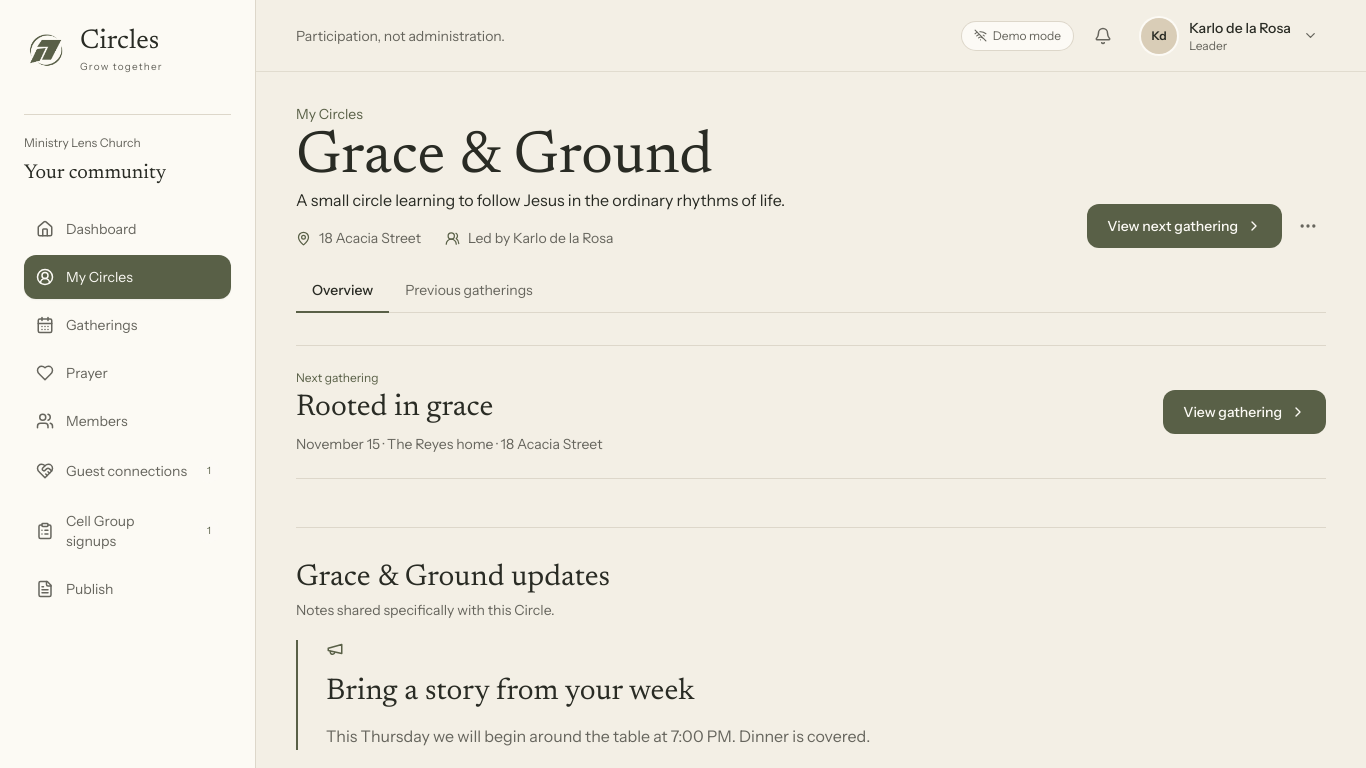
it: Circles MVP › lets the current leader edit Circle details
Step 1. Click the button named "Circle actions" → (1308, 226), box [1290,208,1326,244]
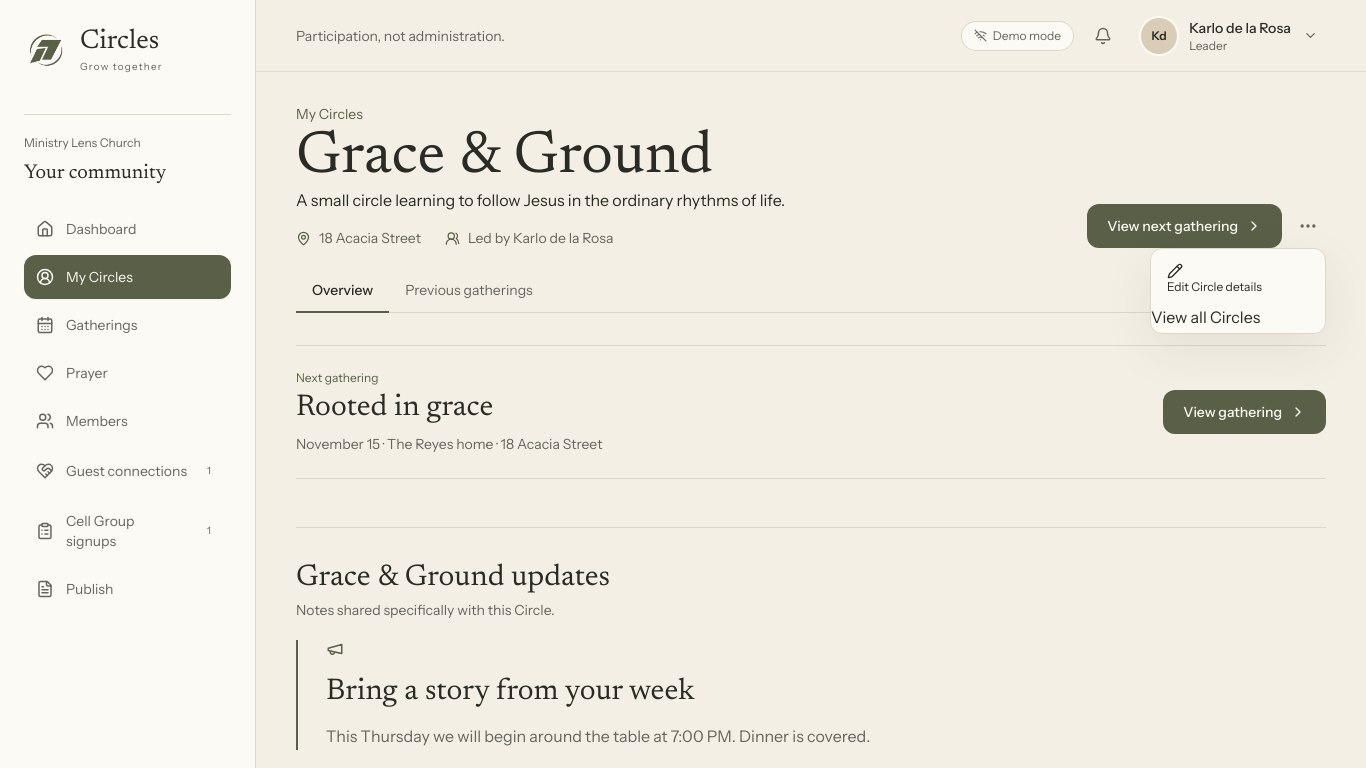
Step 2. Click the menu item "Edit Circle details" → (1238, 279), box [1151,253,1325,305]
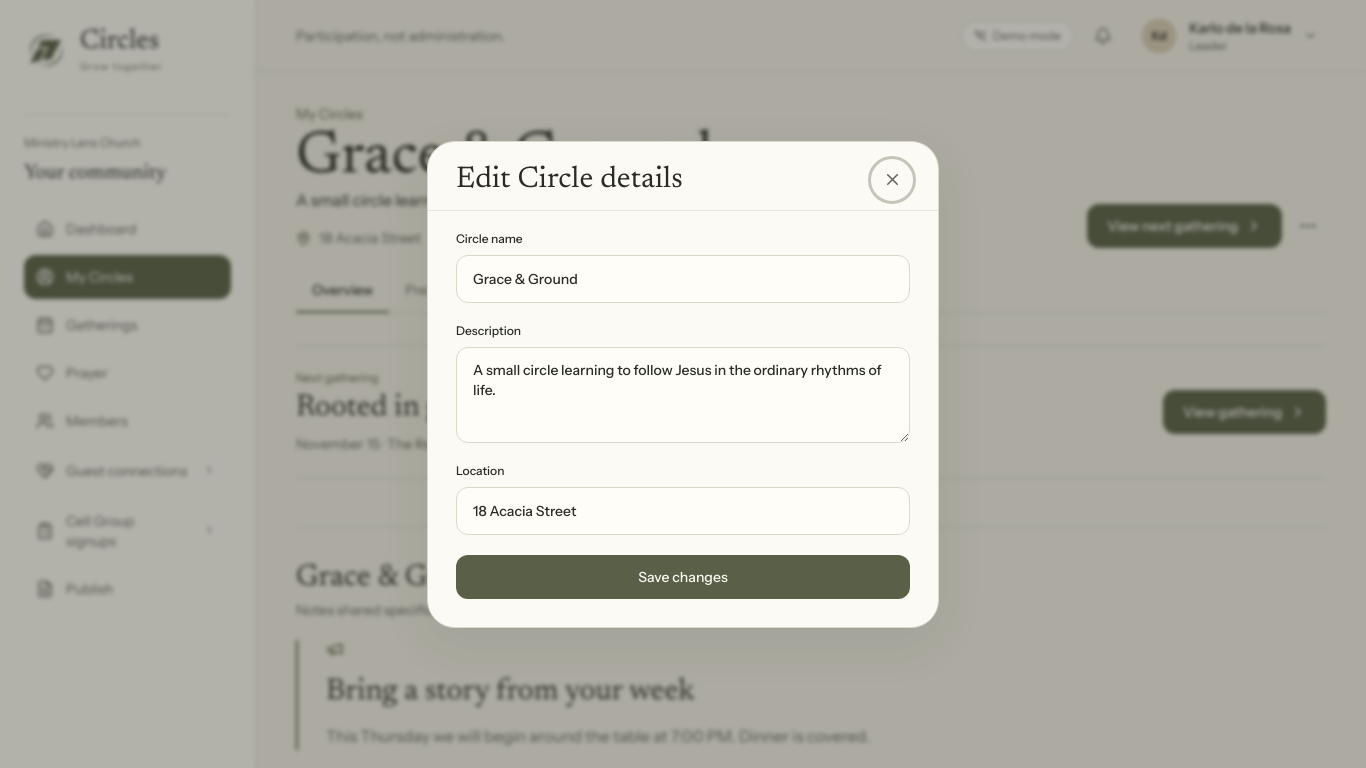
Expected: the field labelled "Circle name" holds "Grace & Ground"
Expected: the text box labelled "Description" holds "A small circle learning to follow Jesus in the ordinary rhythms of life.", [456,346,910,442]
Expected: the field labelled "Location" holds "18 Acacia Street", [456,486,910,534]
Step 3. Replace the text in the field labelled "Circle name" with "Grace at Home" → (683, 278), box [456,254,910,302]
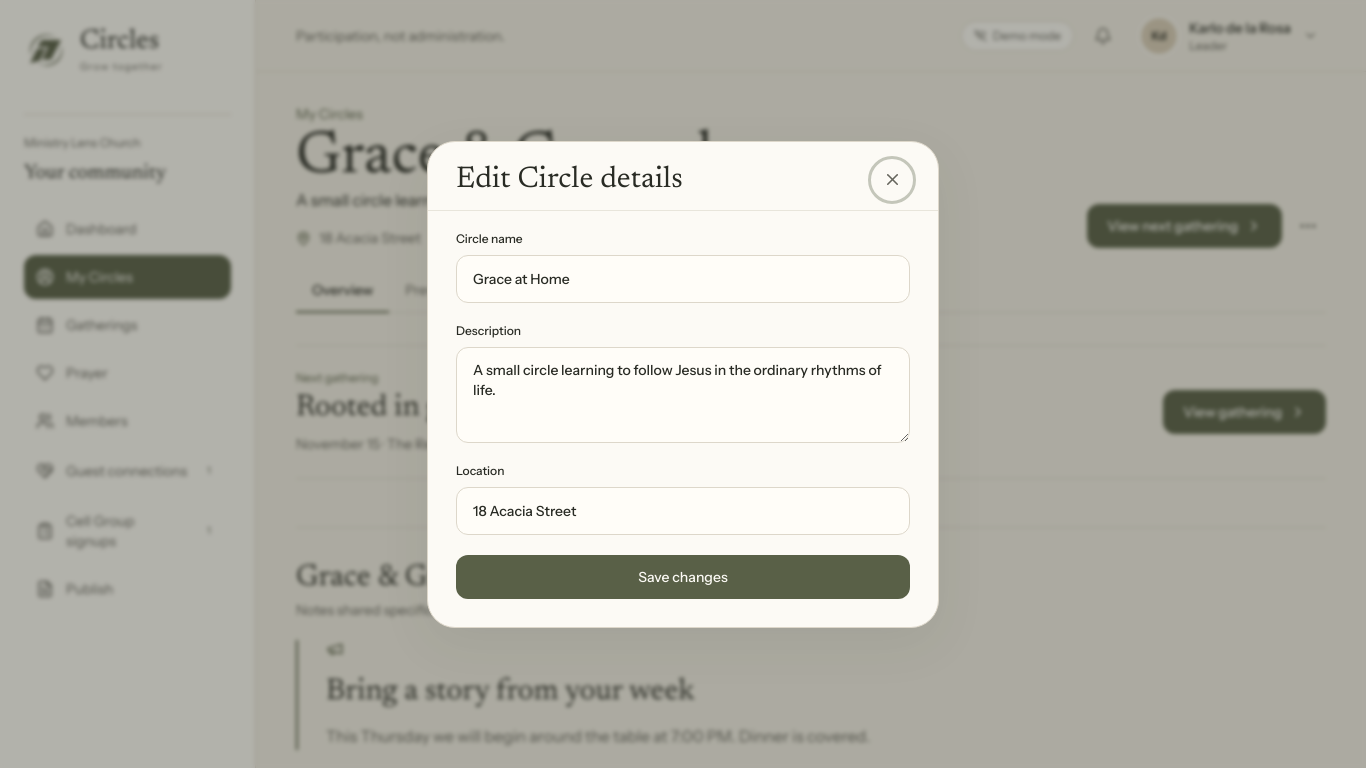
Step 4. Replace the text in the field labelled "Location" with "Santos home" → (683, 510), box [456,486,910,534]
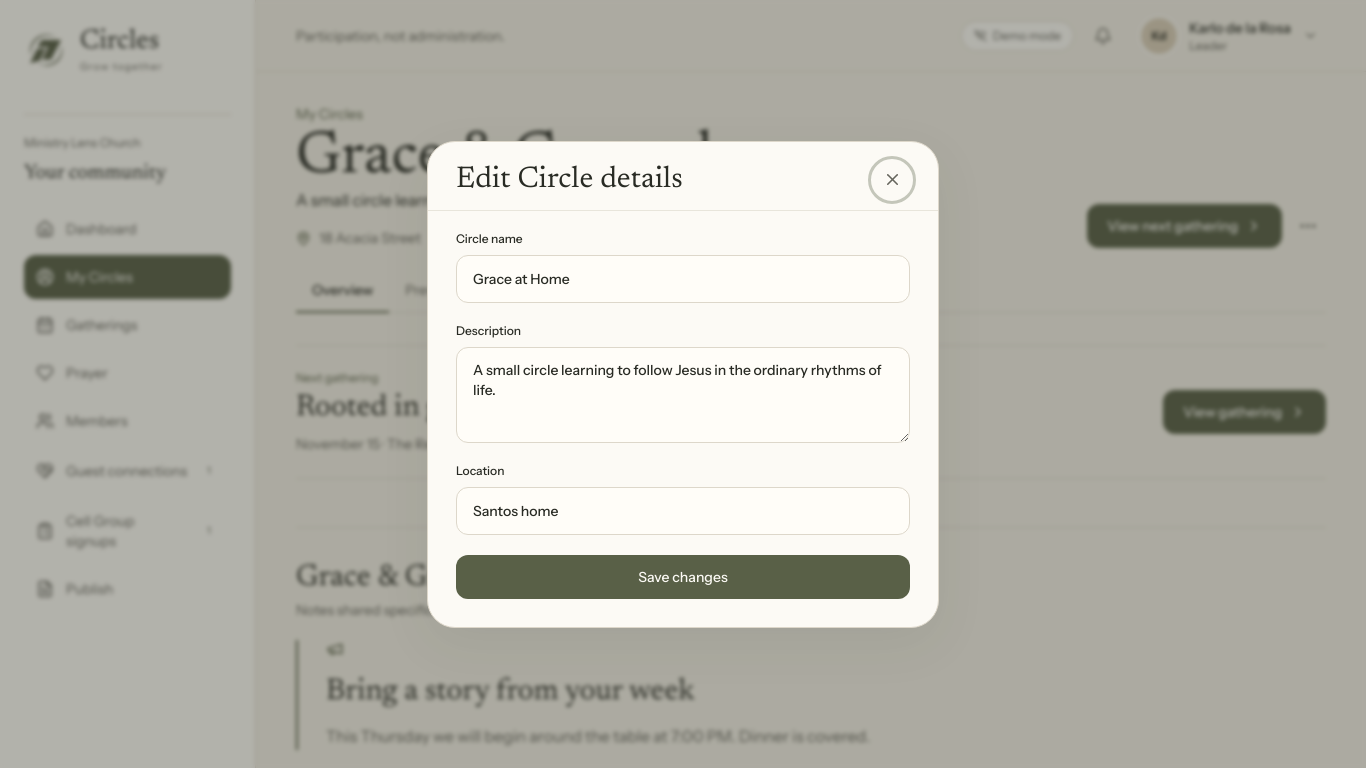
Step 5. Click the button "Save changes" → (683, 576), box [456,554,910,598]
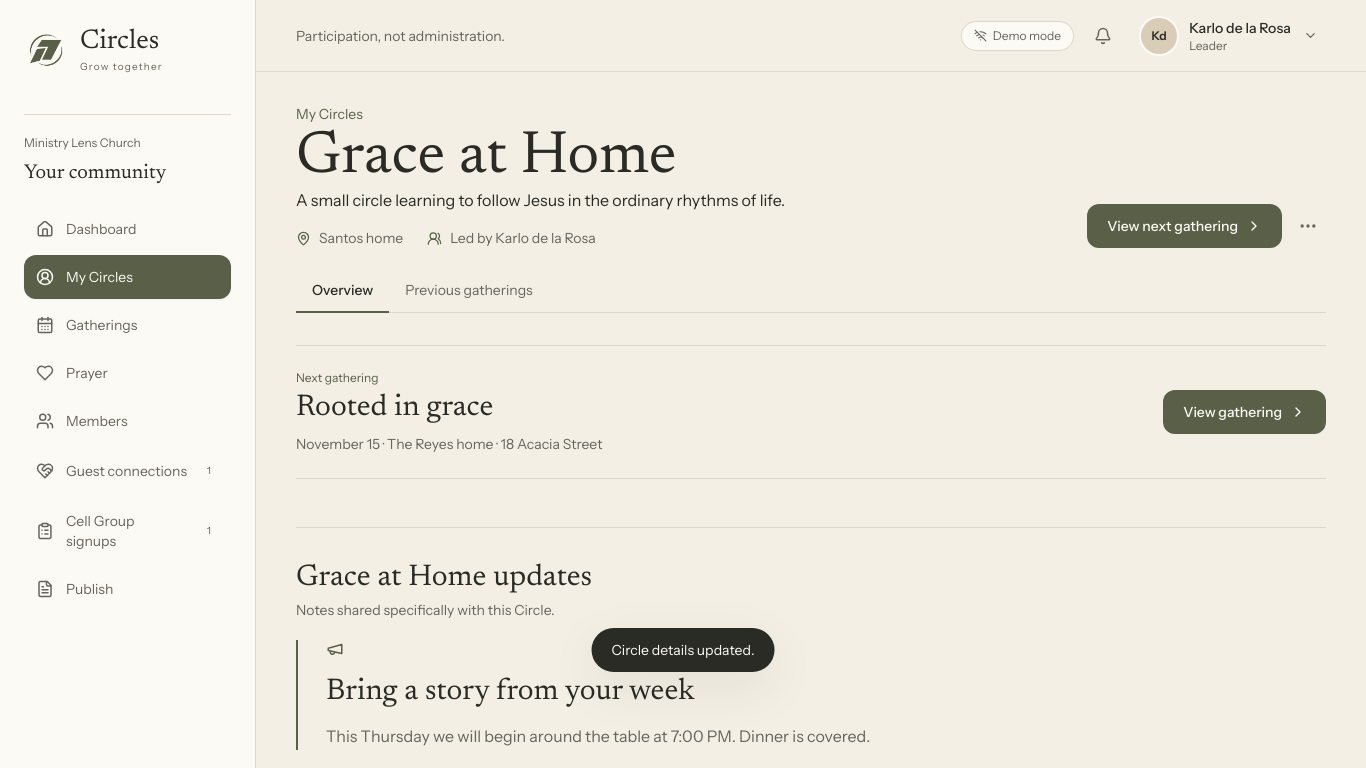
Expected: the heading "Grace at Home" is shown, [296,128,677,188]
Expected: the text "Santos home" is shown, [296,228,403,248]
Expected: the heading "Edit Circle details" is gone
